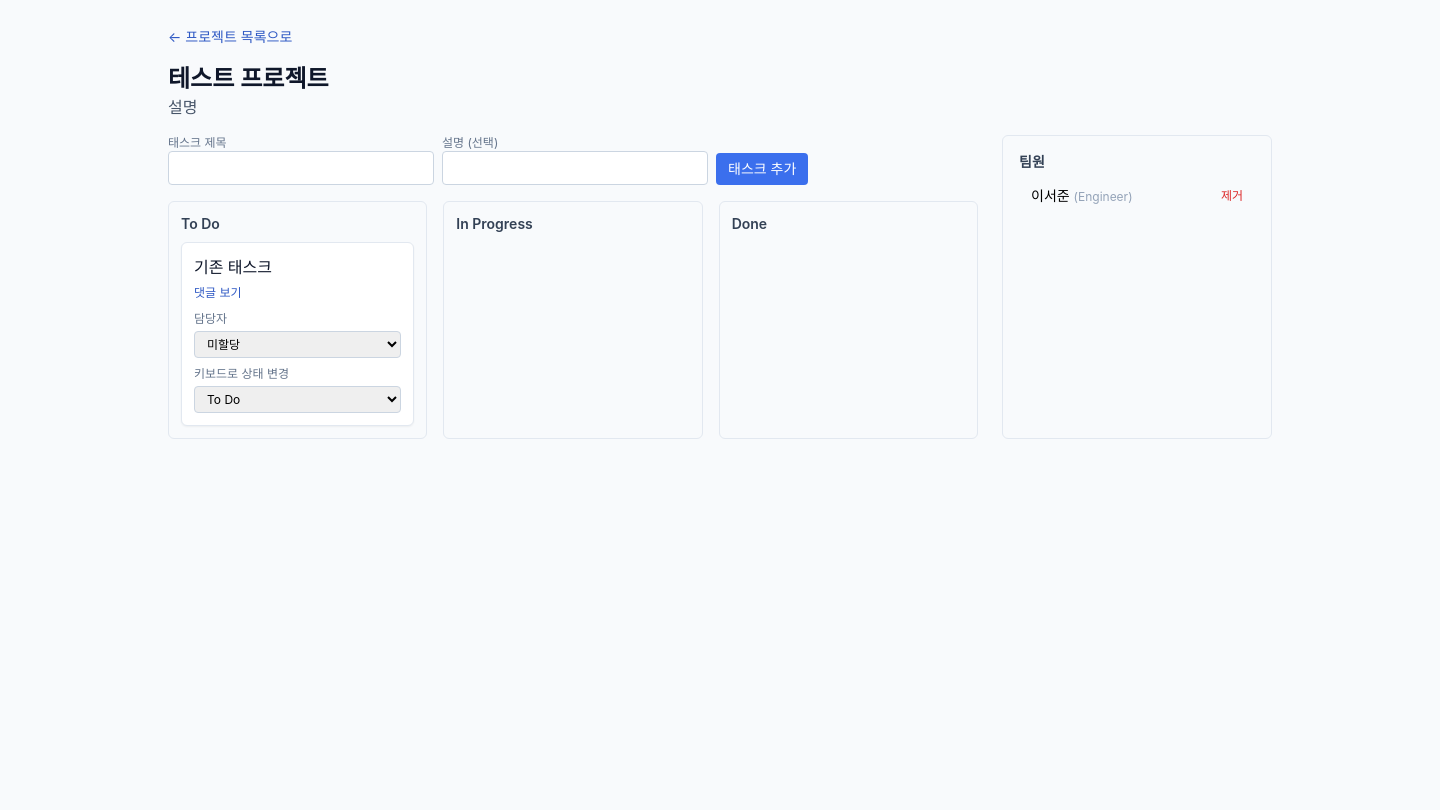
it: ProjectBoardPage › rolls back a task status change when the PATCH request fails
The width and height of the screenshot is (1440, 810).
expect the button "기존 태스크" is shown: met, box [194,257,272,277]
Select "In Progress" in the dropdown labelled "키보드로 상태 변경": (298, 400) [194,386,401,413]
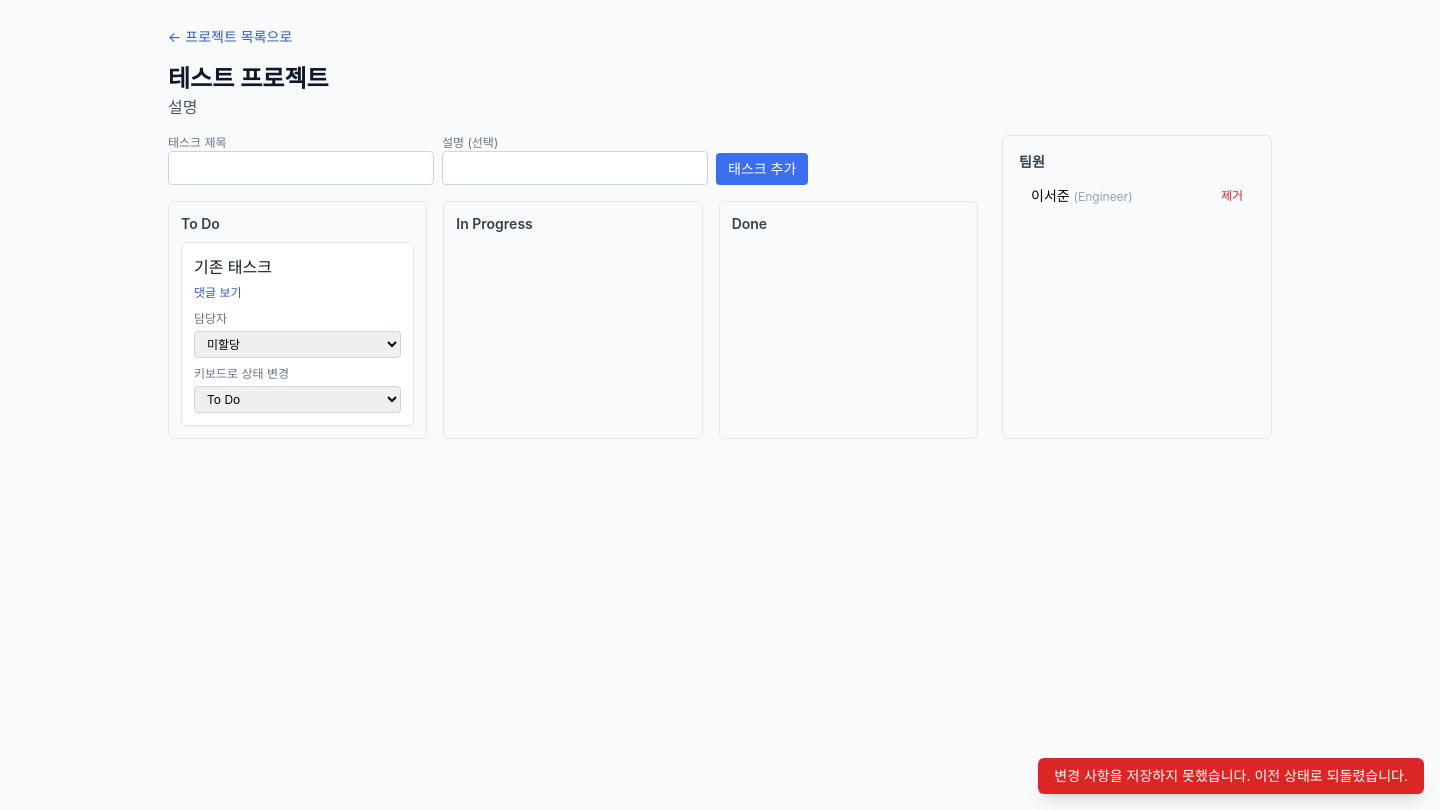
expect the text "변경 사항을 저장하지 못했습니다. 이전 상태로 되돌렸습니다." is shown: met, box [1038,758,1424,794]
